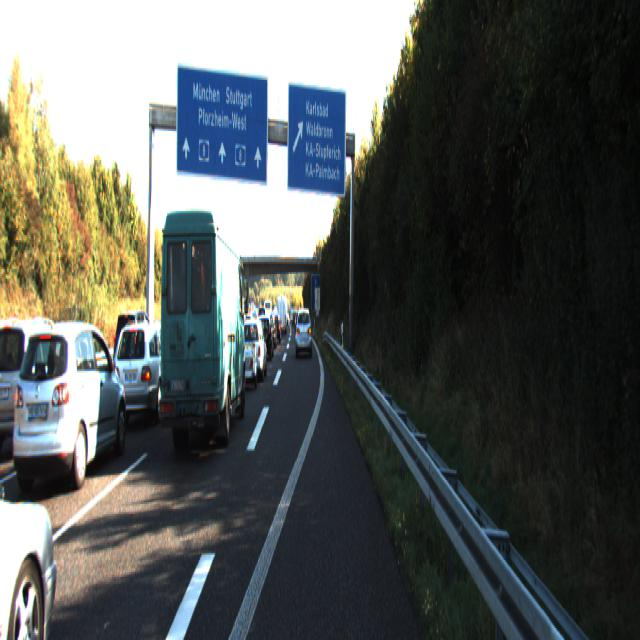Car: (158, 203, 246, 461), (11, 318, 131, 499), (0, 366, 72, 638), (0, 314, 87, 460), (112, 316, 182, 431), (239, 314, 267, 382), (255, 313, 274, 361), (295, 304, 312, 356), (276, 296, 287, 334)
